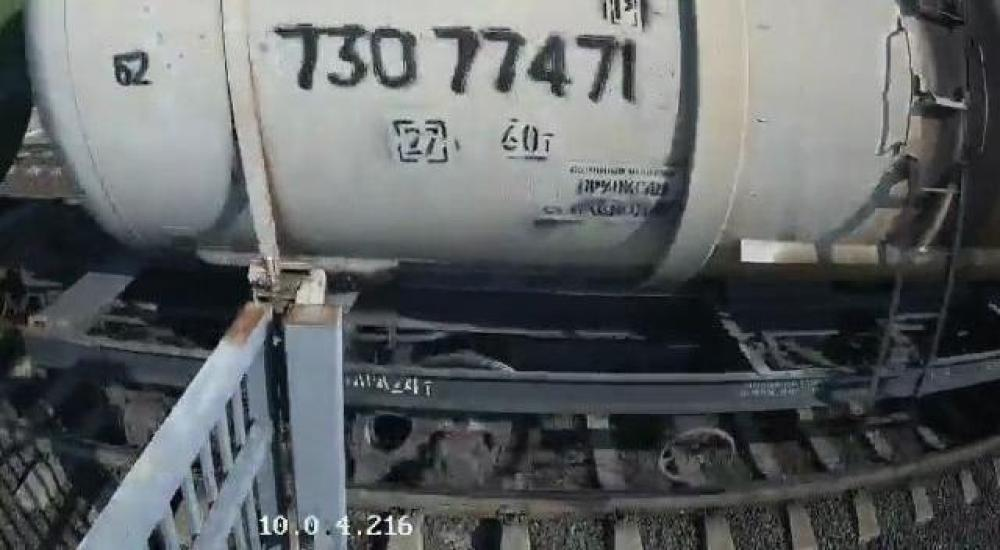Wagon-number: (271, 20, 644, 109)
